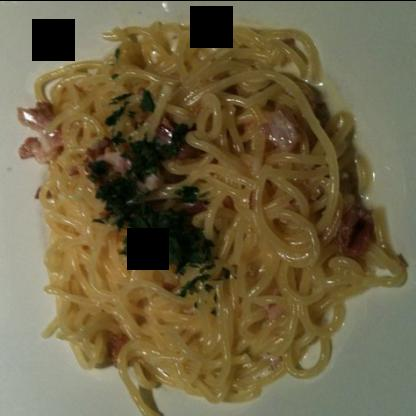pasta: (30, 22, 400, 403)
